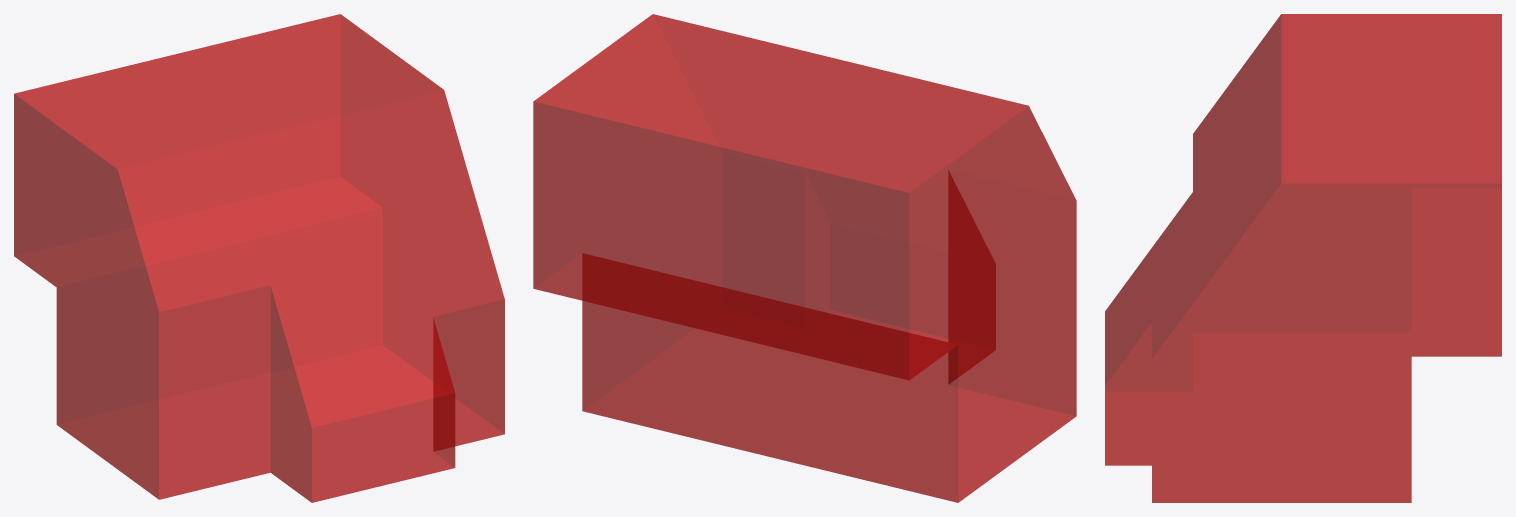
The picture shows the model from 3 angles, left to right: view 1: azimuth 30°, elevation 25°; view 2: azimuth 150°, elevation 25°; view 3: azimuth 270°, elevation 25°; orthographic projection. The views are drawn at different scales.
Visible parts, largest first — view 1: root; view 2: root; view 3: root.
Part boxes in pixels (x1,y1,x2,y2): root: (14, 14, 504, 502); root: (533, 14, 1076, 502); root: (1105, 14, 1501, 502).
Size of the model in its own units: 45.54 by 40 by 45.05.
